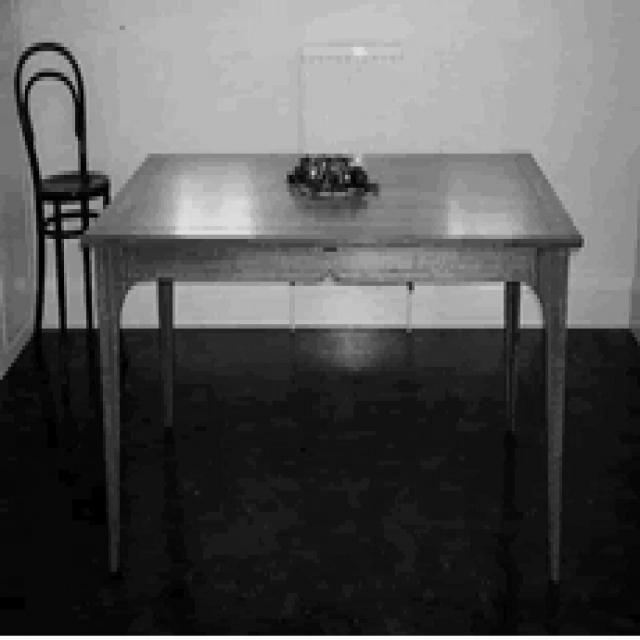chair: (12, 43, 128, 354)
table: (83, 146, 590, 579)
